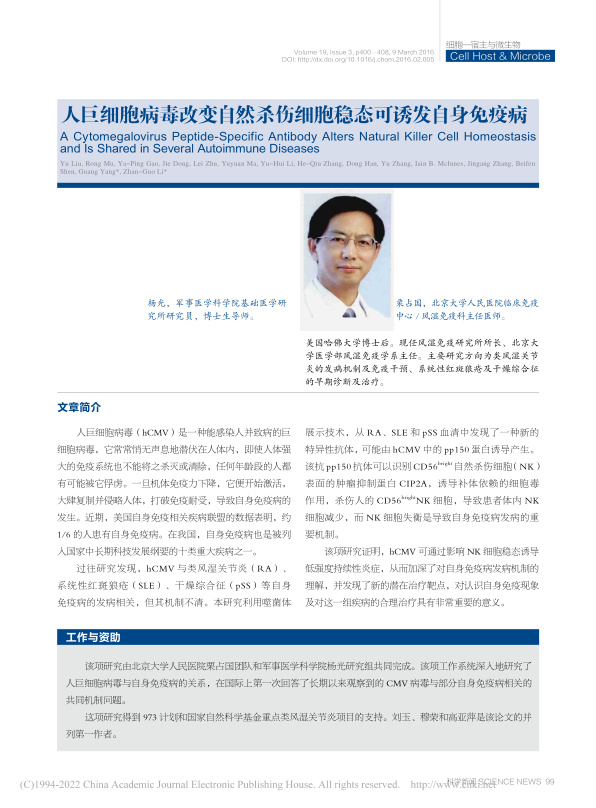Figure: (302, 193, 392, 323)
Header: (445, 39, 556, 64), (281, 47, 436, 63)
Text: (303, 427, 539, 607), (57, 427, 291, 607), (66, 661, 532, 740), (306, 338, 537, 386), (59, 159, 536, 177), (394, 294, 540, 320), (145, 297, 287, 322)
Title: (60, 100, 529, 127), (59, 130, 536, 154), (67, 629, 121, 643), (57, 398, 101, 413)
